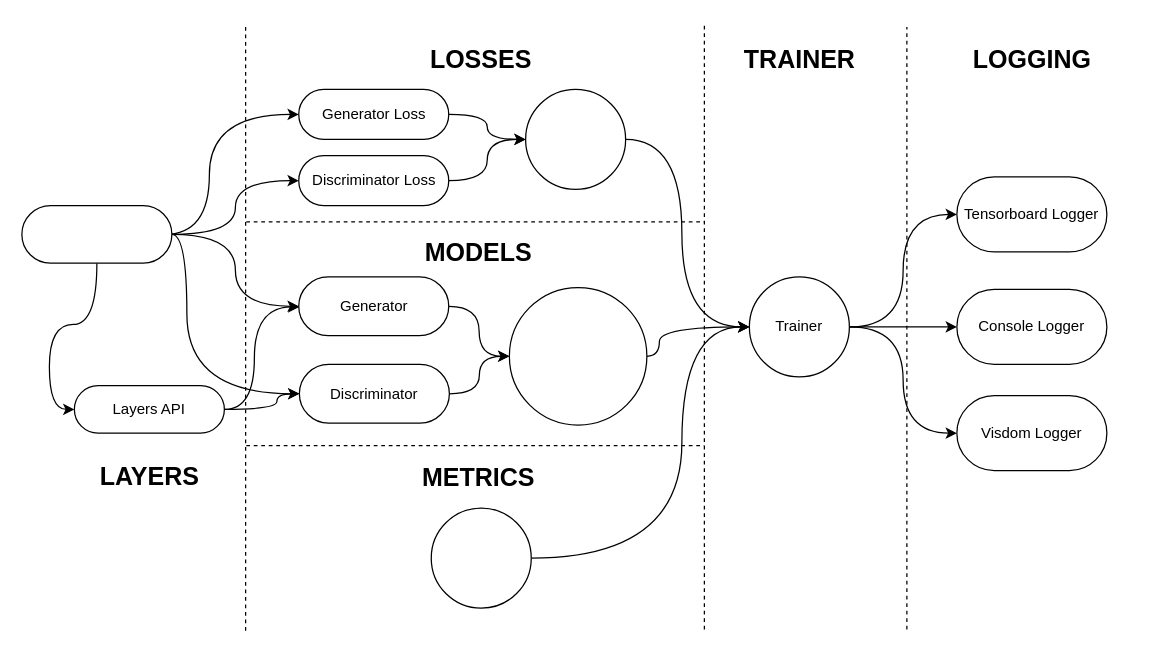
Some shapes in this 1150 by 654 pixel diagram are drawn without their labels. The shapes that lost their labels are listed below. From the top down, each one's centre as x and y in pixels, then its label:
pixel 575 138: List of Loss Functions
pixel 96 233: Pytorch nn.Module
pixel 577 355: Dictionary style descriptor of the models
pixel 480 557: List of Metrics
